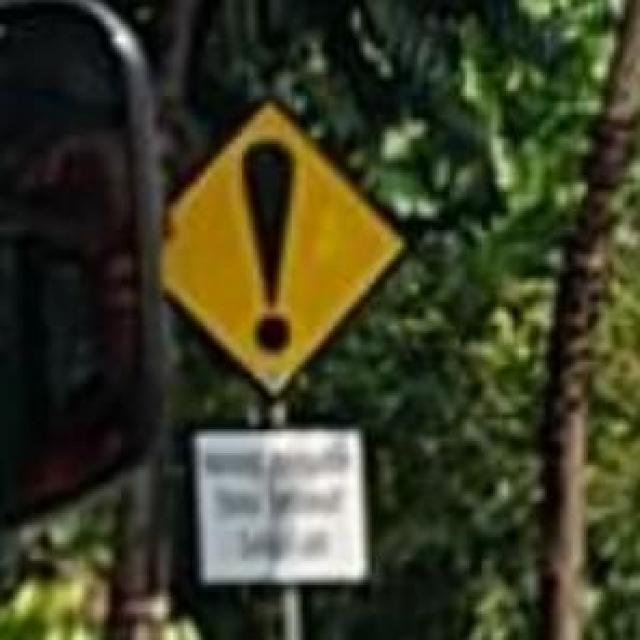traffic sign: (175, 101, 410, 398)
